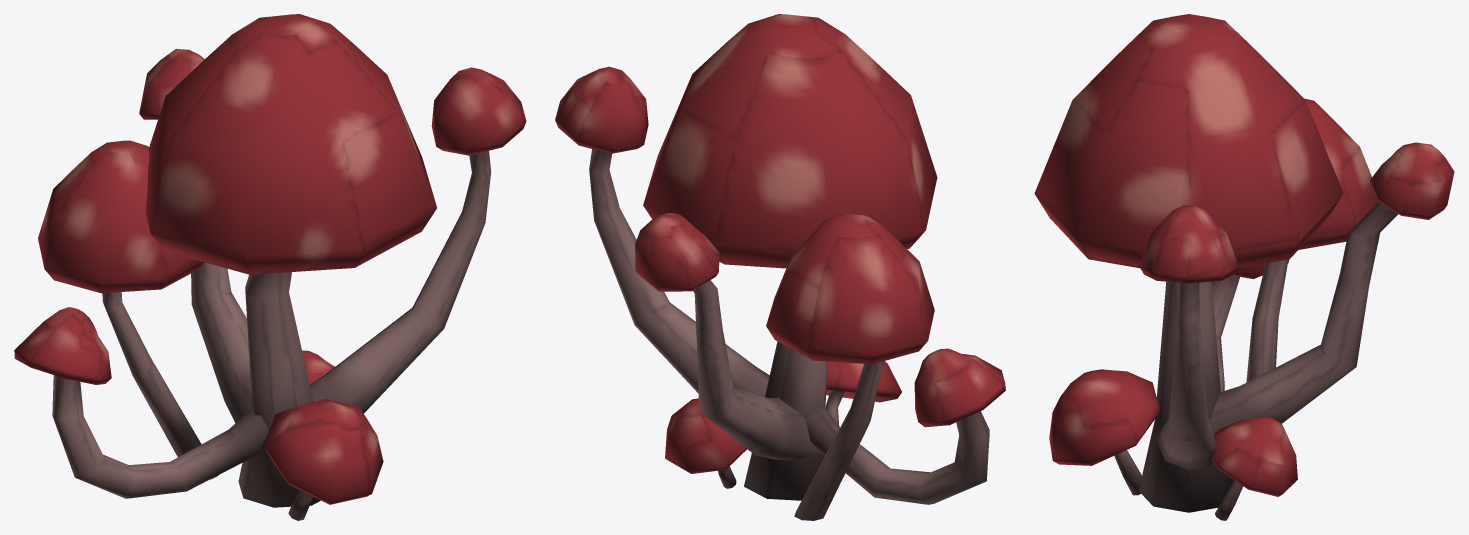
The model's file is Cogumelo3.fbx.
3 renders of one model, left to right at view 1: azimuth 30°, elevation 25°; view 2: azimuth 150°, elevation 25°; view 3: azimuth 270°, elevation 25°, orthographic. The views are drawn at different scales.
Parts seen in each view (by area): view 1: Cogumelo 3; view 2: Cogumelo 3; view 3: Cogumelo 3.
Boxes of the visible parts, <box> form: Cogumelo 3: <box>14,14,526,520</box>; Cogumelo 3: <box>555,14,1005,520</box>; Cogumelo 3: <box>1034,14,1454,520</box>.
Bounding box in the file's own units: 88.27 × 84.63 × 67.62.
